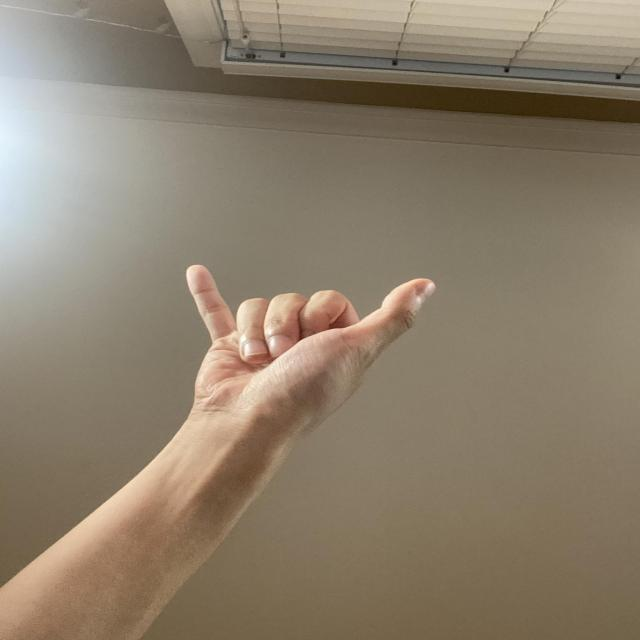Y: (170, 256, 448, 442)
